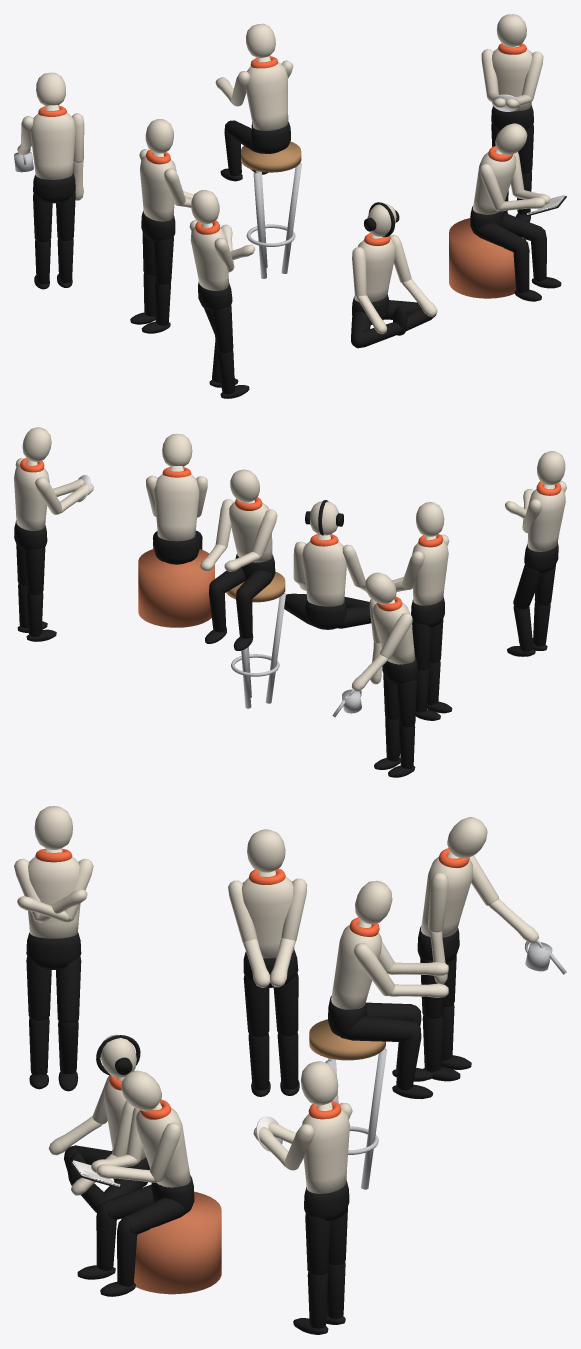
The model's file is personnage.glb.
The picture shows the model from 3 angles, top to bottom: view 1: azimuth 30°, elevation 25°; view 2: azimuth 150°, elevation 25°; view 3: azimuth 270°, elevation 25°; orthographic projection. The views are drawn at different scales.
Parts seen in each view (by area): view 1: Pouf_3, Torse_4, Torse_1, Torse_2, Torse_7, Torse_5, Torse_6, Torse_3, Tabouret_assise_1, Bassin_4, Bassin_1, Tete_4 (+37 smaller); view 2: Pouf_3, Torse_3, Torse_5, Torse_2, Torse_6, Torse_7, Torse_1, Torse_4, Bassin_3, Bassin_5, Cuisse_g_6, Tete_3 (+38 smaller); view 3: Pouf_3, Torse_6, Torse_7, Torse_2, Torse_1, Torse_3, Torse_4, Tabouret_assise_1, Bassin_7, Cuisse_g_1, Cuisse_d_7, Tete_7 (+46 smaller).
Part boxes in pixels (x1=…): Pouf_3: x1=449, y1=218, x2=525, y2=298; Torse_4: x1=30, y1=105, x2=75, y2=179; Torse_1: x1=246, y1=56, x2=288, y2=130; Torse_2: x1=140, y1=152, x2=176, y2=221; Torse_7: x1=190, y1=223, x2=228, y2=290; Torse_5: x1=354, y1=234, x2=395, y2=302; Torse_6: x1=492, y1=45, x2=531, y2=111; Torse_3: x1=473, y1=149, x2=516, y2=214; Tabouret_assise_1: x1=241, y1=141, x2=301, y2=172; Bassin_4: x1=33, y1=173, x2=75, y2=203; Bassin_1: x1=251, y1=122, x2=290, y2=153; Tete_4: x1=36, y1=72, x2=65, y2=105; Pouf_3: x1=138, y1=549, x2=214, y2=627; Torse_3: x1=154, y1=466, x2=199, y2=541; Torse_5: x1=302, y1=534, x2=346, y2=606; Torse_2: x1=412, y1=535, x2=448, y2=605; Torse_6: x1=14, y1=459, x2=49, y2=530; Torse_7: x1=527, y1=484, x2=565, y2=551; Torse_1: x1=229, y1=500, x2=272, y2=562; Torse_4: x1=373, y1=599, x2=415, y2=664; Bassin_3: x1=155, y1=535, x2=197, y2=564; Bassin_5: x1=305, y1=600, x2=346, y2=629; Cuisse_g_6: x1=25, y1=547, x2=45, y2=594; Tete_3: x1=162, y1=433, x2=192, y2=466; Pouf_3: x1=134, y1=1191, x2=221, y2=1294; Torse_6: x1=302, y1=1102, x2=349, y2=1193; Torse_7: x1=28, y1=848, x2=80, y2=938; Torse_2: x1=241, y1=870, x2=294, y2=958; Torse_1: x1=331, y1=920, x2=381, y2=1009; Torse_3: x1=136, y1=1102, x2=190, y2=1187; Torse_4: x1=421, y1=851, x2=472, y2=937; Tabouret_assise_1: x1=309, y1=1019, x2=385, y2=1060; Bassin_7: x1=26, y1=932, x2=81, y2=969; Cuisse_g_1: x1=339, y1=1016, x2=413, y2=1041; Cuisse_d_7: x1=56, y1=956, x2=81, y2=1022; Tete_7: x1=34, y1=806, x2=72, y2=849.
Bounding box in the file's own units: 1.92 × 0.9637 × 1.58.
